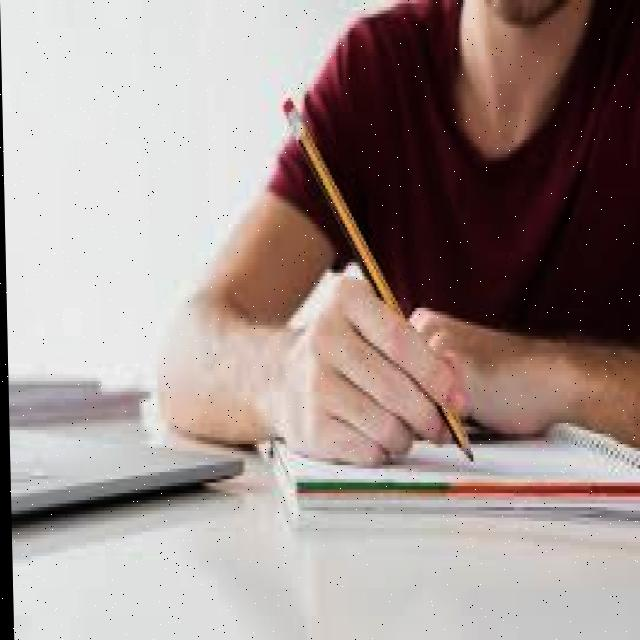pencil: (275, 80, 404, 318), (440, 401, 479, 476)
